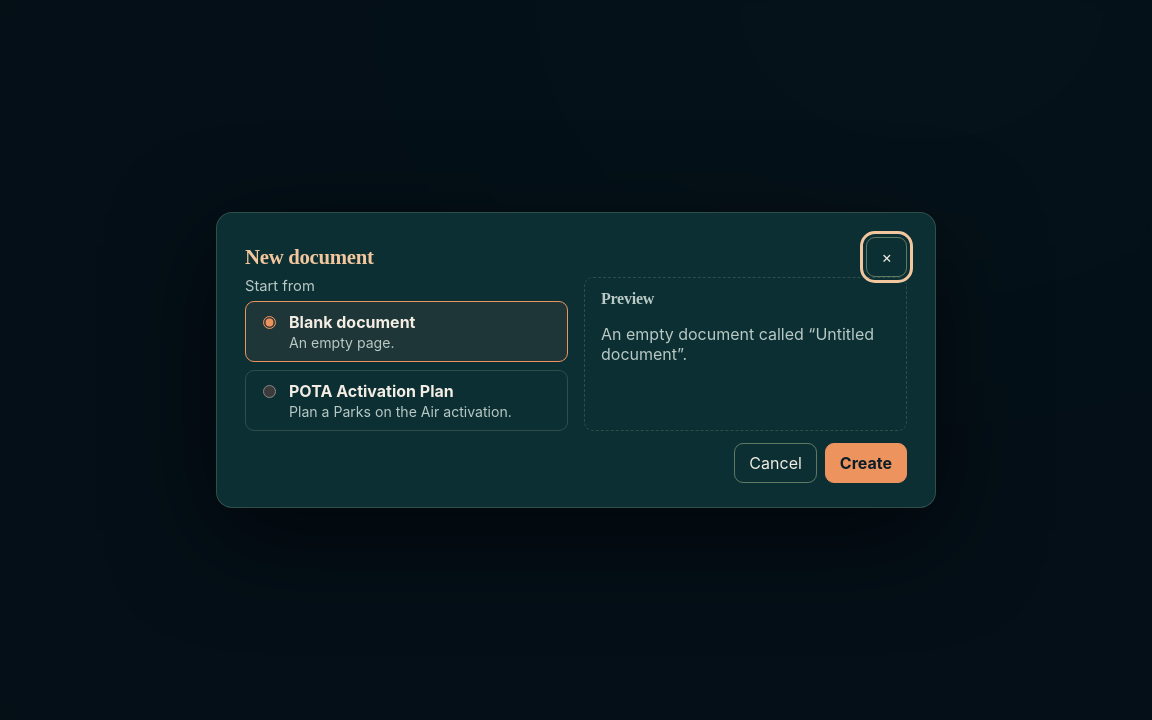
Test case: NewDocumentDialog › shows a create error and lets the user retry
Click the button "Create". click: (866, 463)
box: [825,443,907,483]
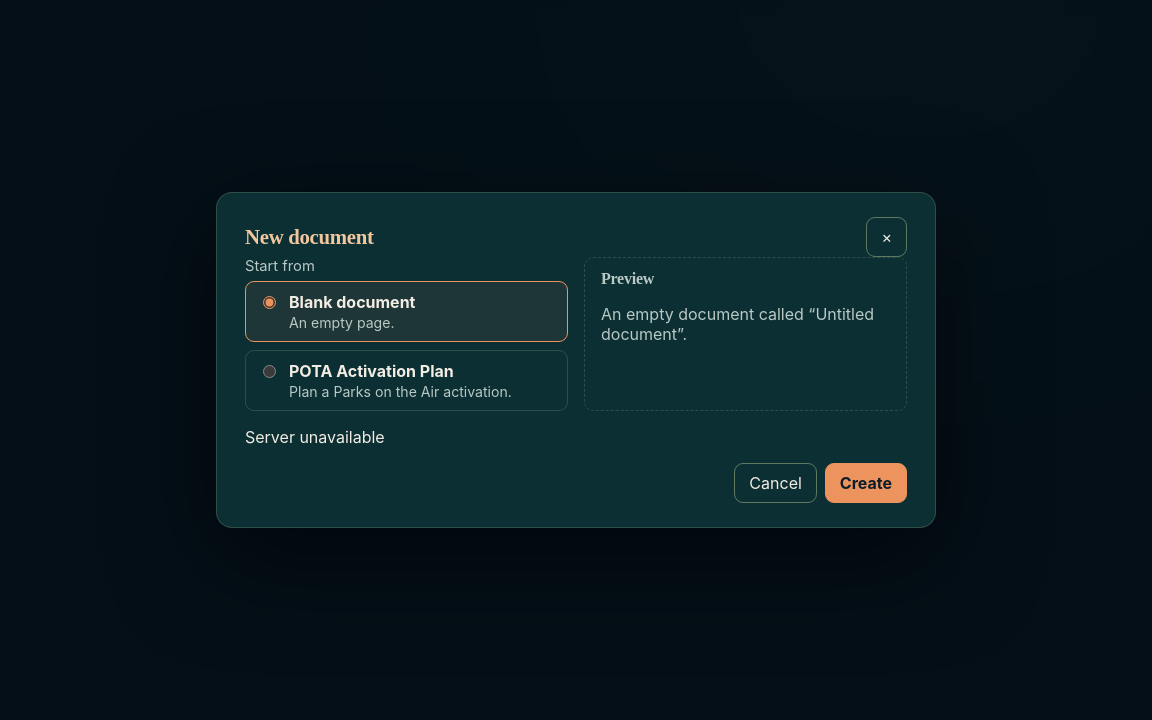
Expected: the button "Create" is enabled, [825,463,907,503]
Result: the message reads "Server unavailable" at [245,427,385,447]
